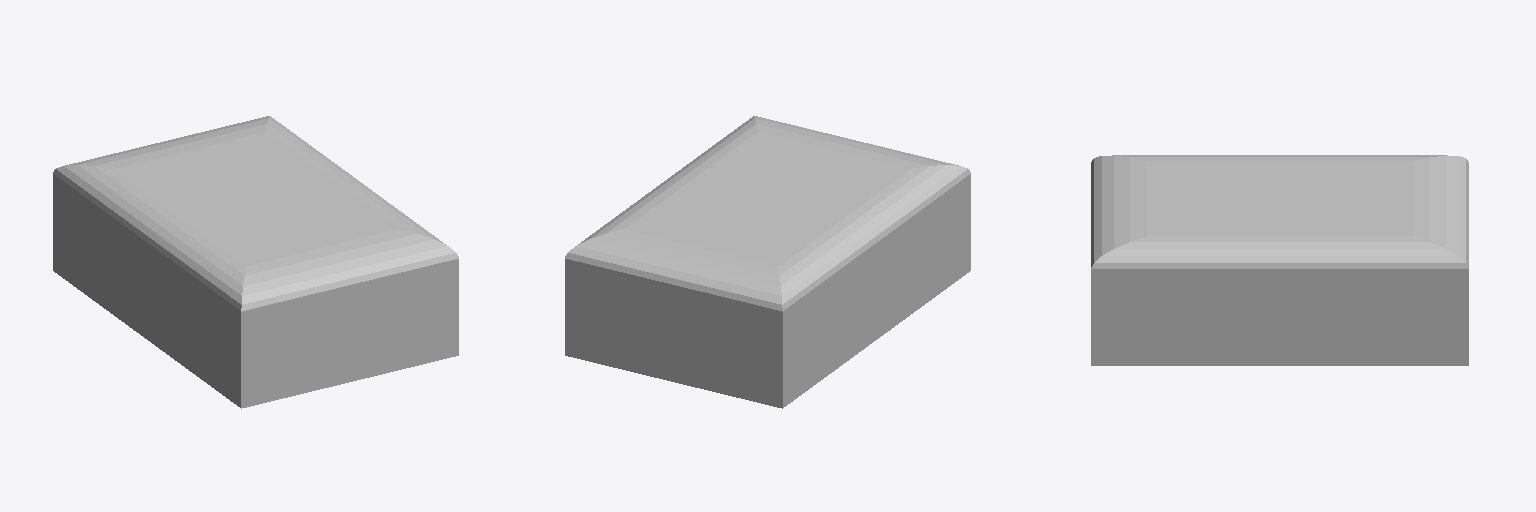
File: JST CrossButton.obj
The picture shows the model from 3 angles: view 1: azimuth 30°, elevation 25°; view 2: azimuth 150°, elevation 25°; view 3: azimuth 270°, elevation 25°; orthographic projection.
Visible parts, largest first — view 1: Cube; view 2: Cube; view 3: Cube.
Part boxes in pixels (bbox=[...]): Cube: bbox=[53, 116, 458, 408]; Cube: bbox=[565, 116, 970, 408]; Cube: bbox=[1091, 155, 1468, 365].
Bounding box in the file's own units: 1 × 0.5 × 1.5.